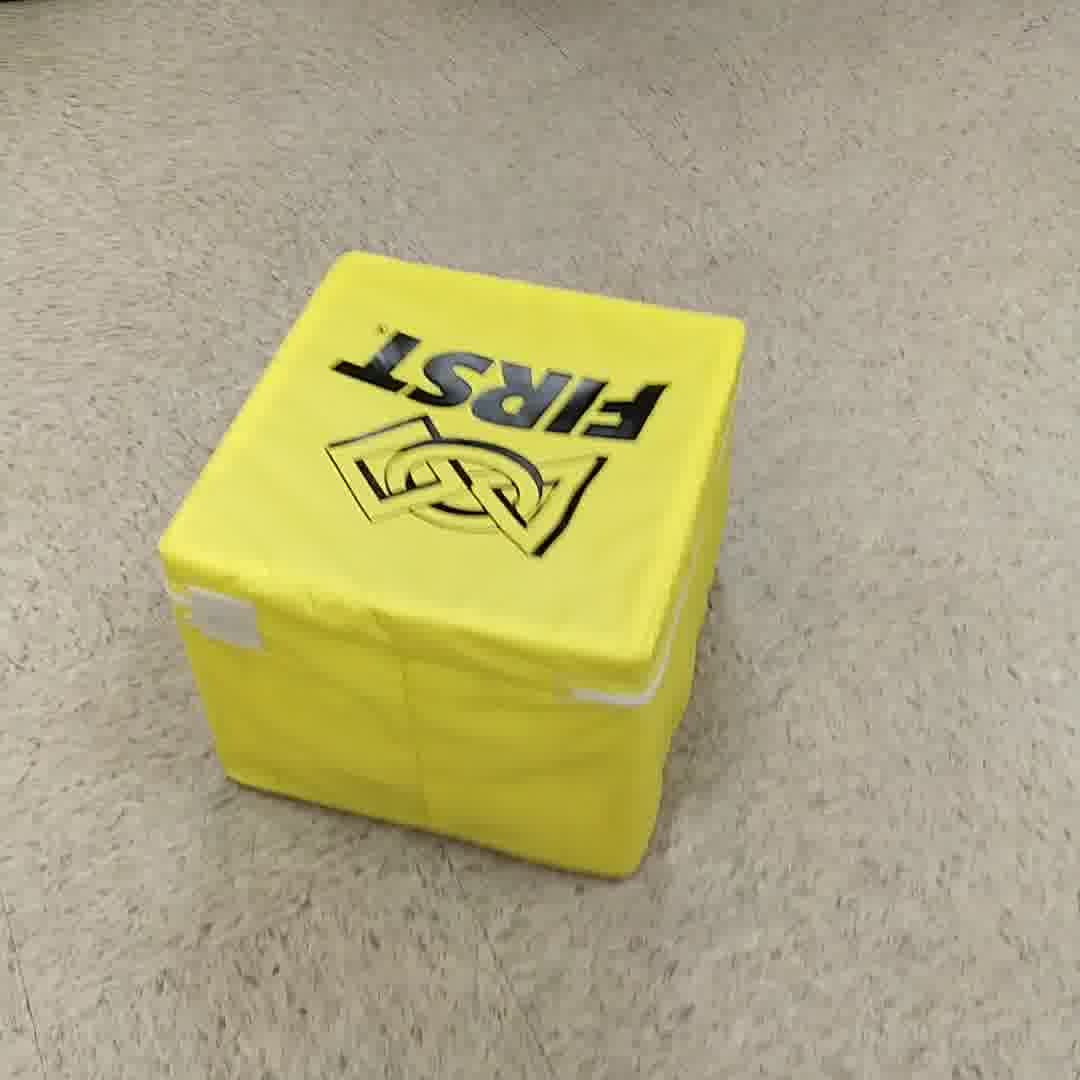box: (161, 241, 747, 876)
